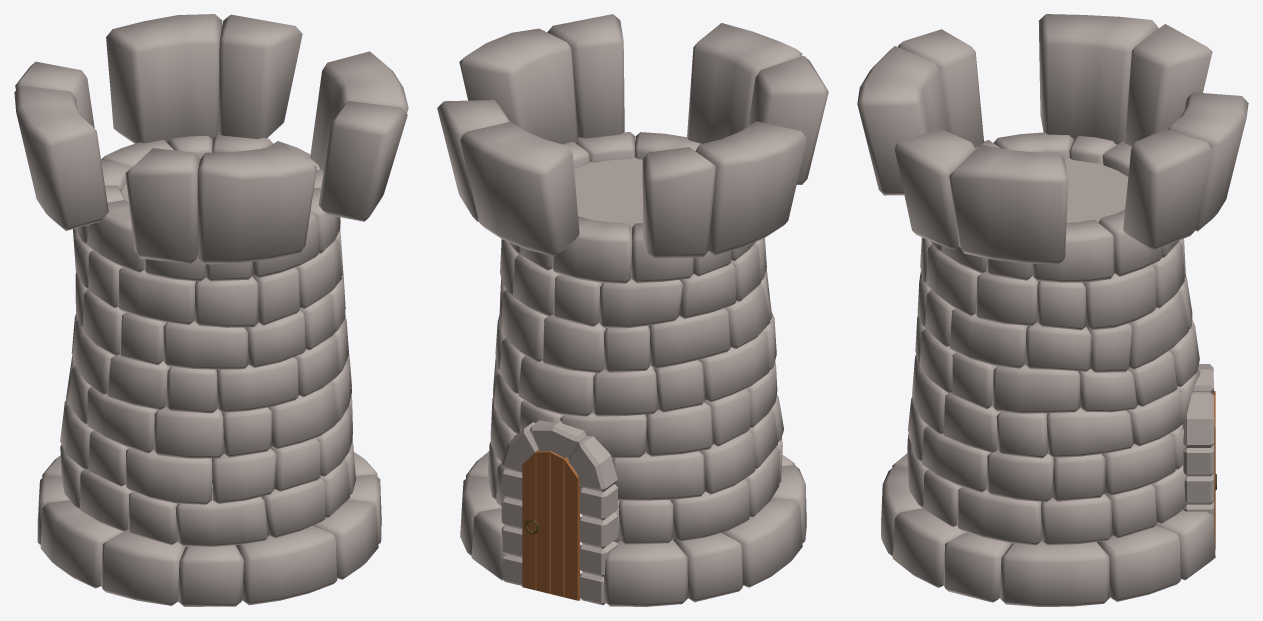
Rendered from StoneTower.fbx.
3 views of the same model, side by side, from view 1: azimuth 30°, elevation 25°; view 2: azimuth 150°, elevation 25°; view 3: azimuth 270°, elevation 25° (orthographic).
Visible parts, largest first — view 1: Tower; view 2: Tower; view 3: Tower.
Part boxes in pixels (bbox=[...]): Tower: bbox=[14, 14, 408, 606]; Tower: bbox=[437, 14, 828, 606]; Tower: bbox=[857, 14, 1248, 606].
Size of the model in its own units: 829 by 1048 by 826.
